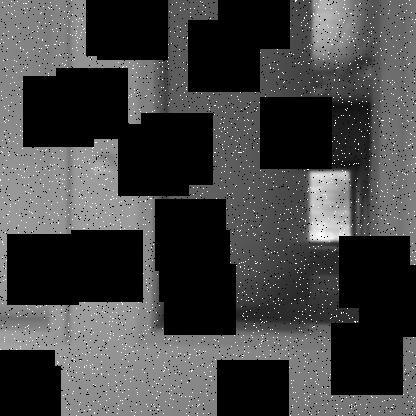Porte: (134, 0, 405, 353)
